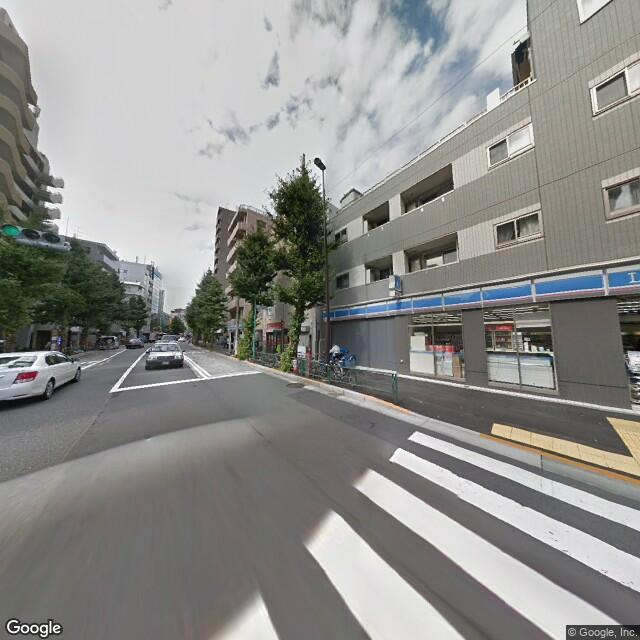lawson: (330, 260, 639, 325)
